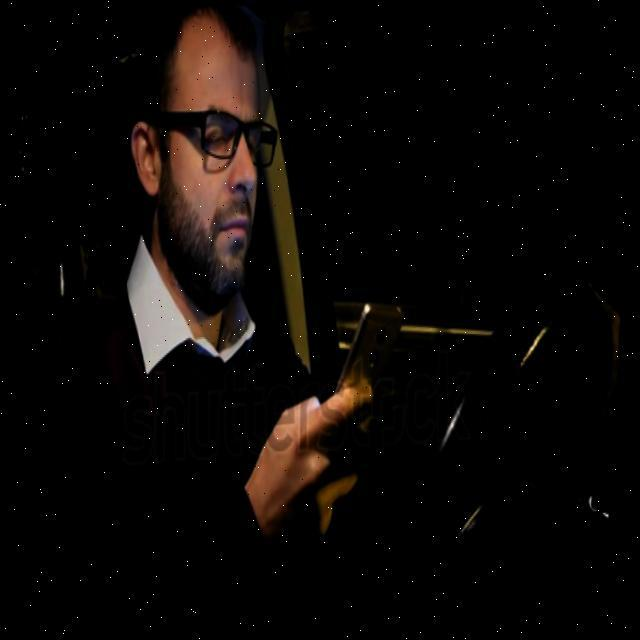PhoneCall: (328, 305, 415, 445)
